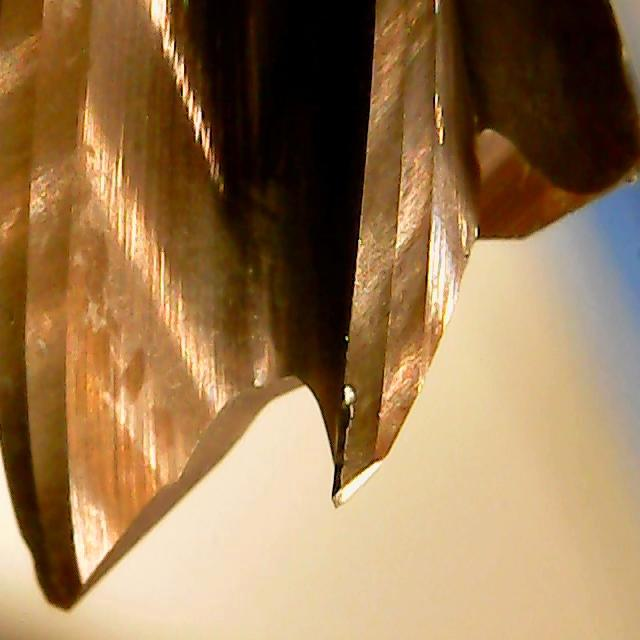Tool-wear-class-1: (319, 215, 425, 509)
